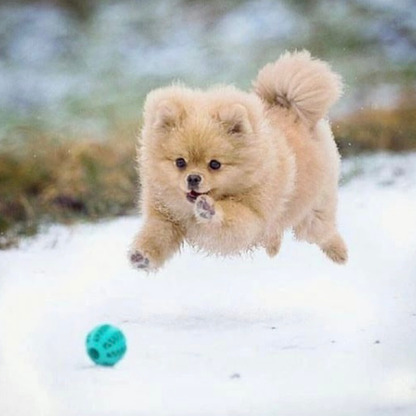Pomeranian: (85, 43, 389, 270)
